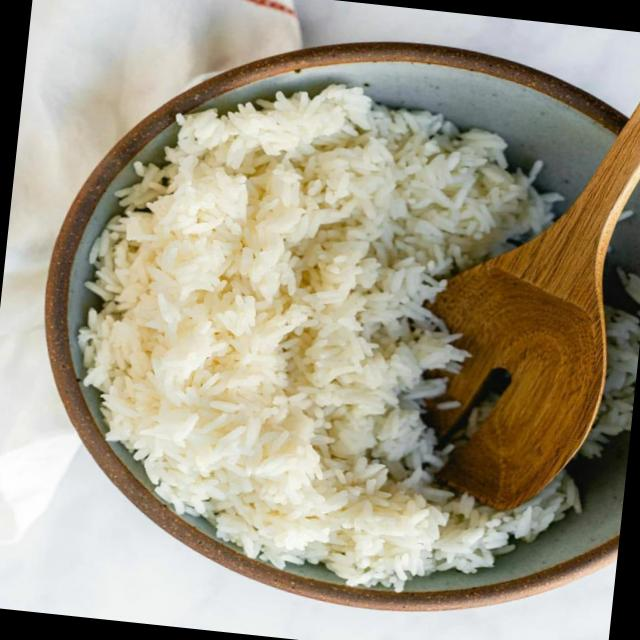rice: (84, 83, 591, 572)
